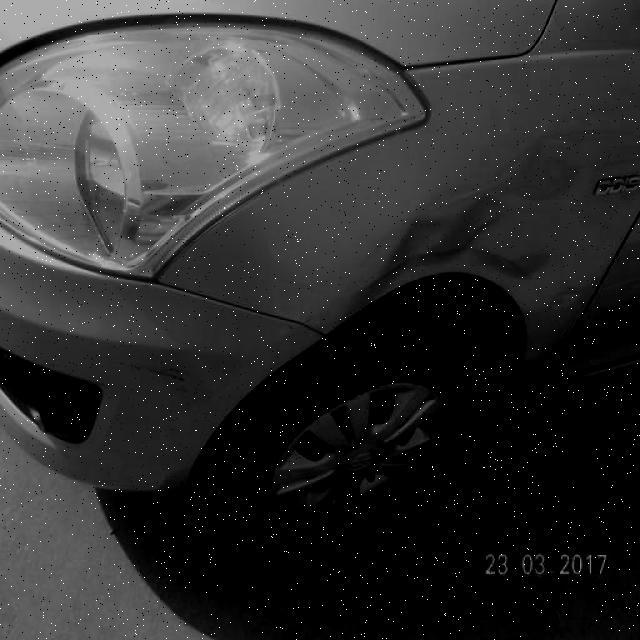car damage: (352, 138, 585, 312)
